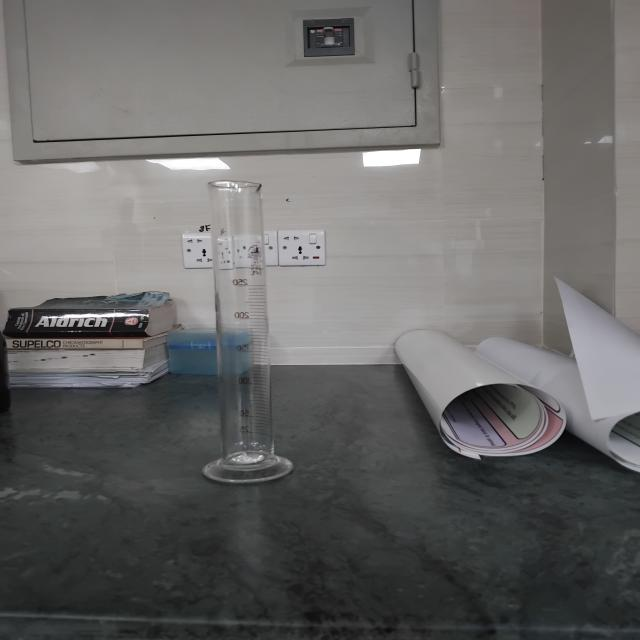Measuring_Cylinder: (153, 137, 335, 528)
